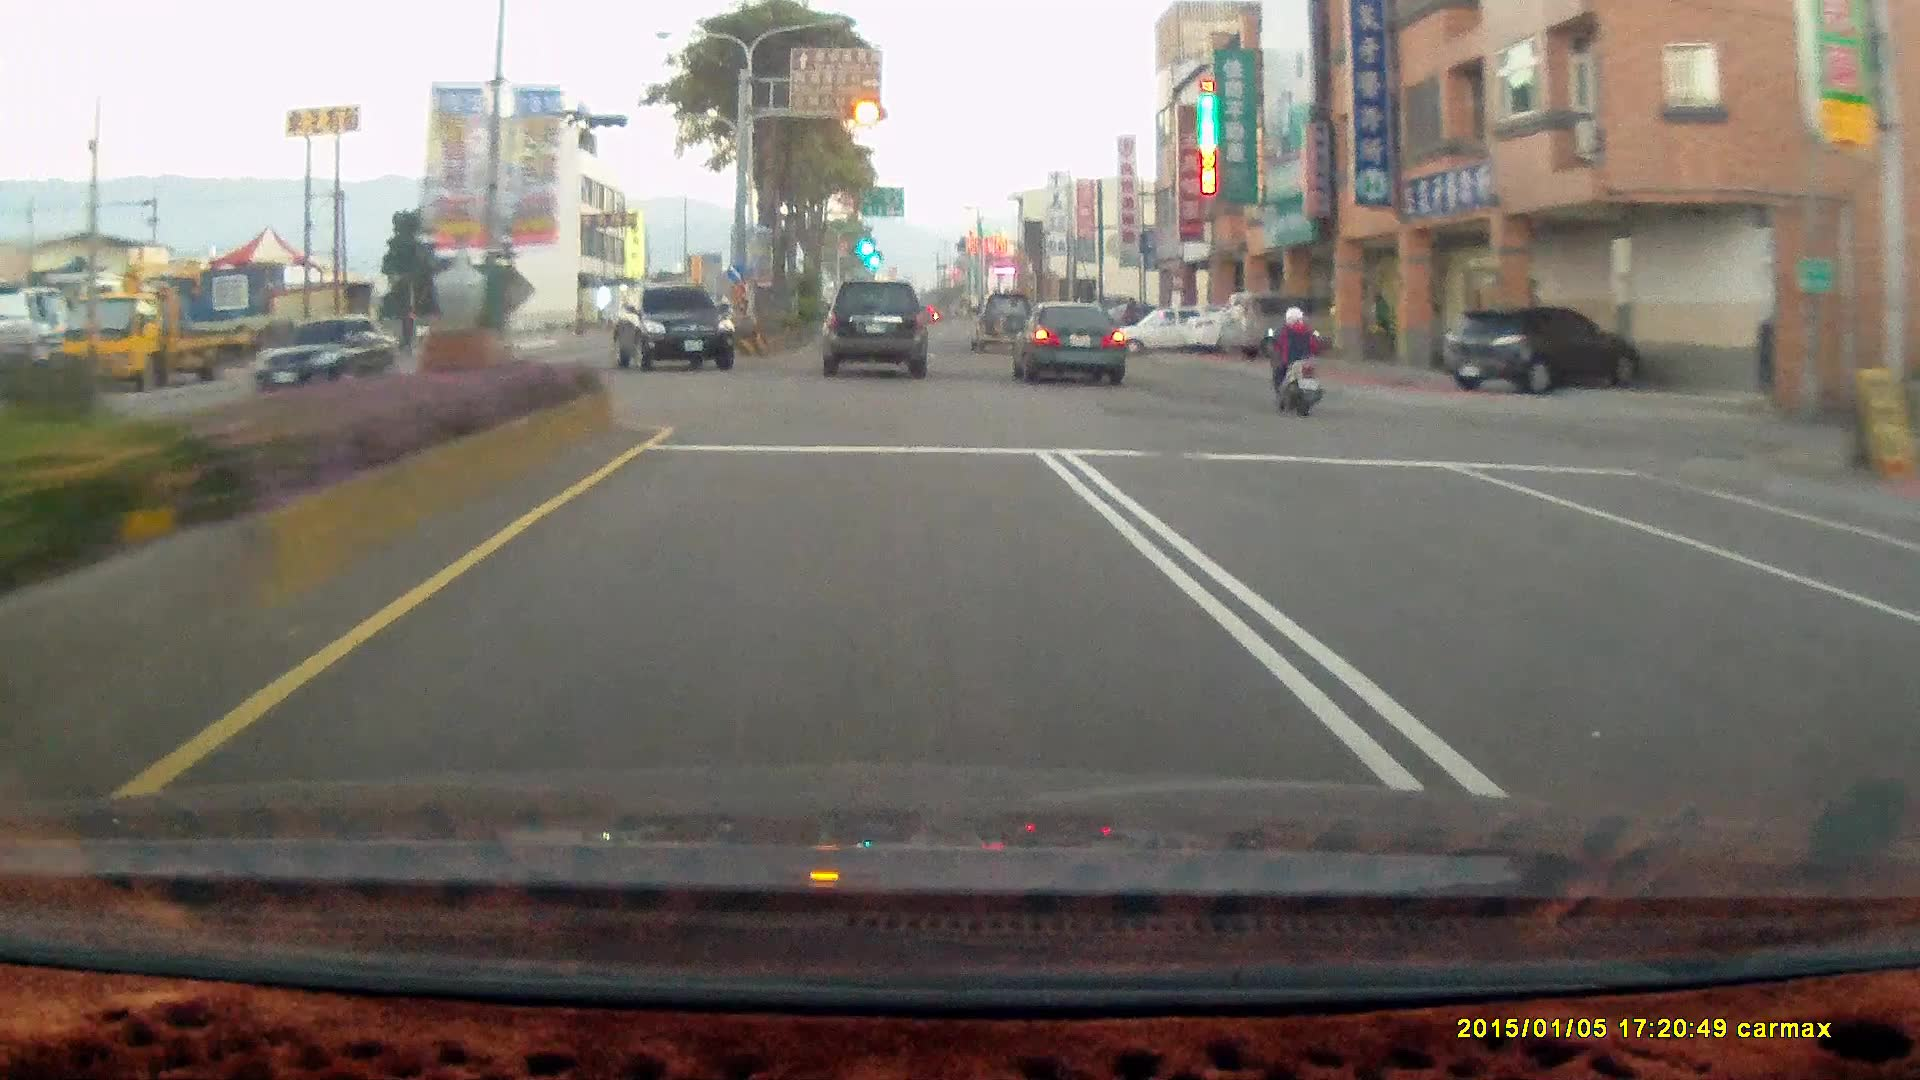pedestrian: (1369, 294, 1394, 361), (398, 304, 418, 357)
rider: (1255, 294, 1336, 425), (1268, 300, 1328, 412)
vehicle: (56, 283, 260, 396), (1446, 304, 1653, 393), (1441, 302, 1642, 393), (237, 312, 406, 399), (247, 310, 398, 395), (608, 282, 732, 368), (823, 281, 931, 379), (820, 278, 928, 376), (618, 282, 740, 367), (1008, 300, 1125, 385), (1009, 302, 1128, 384), (1220, 288, 1355, 359), (1217, 288, 1343, 361), (1120, 301, 1236, 359), (1112, 303, 1232, 355), (968, 289, 1037, 351)
